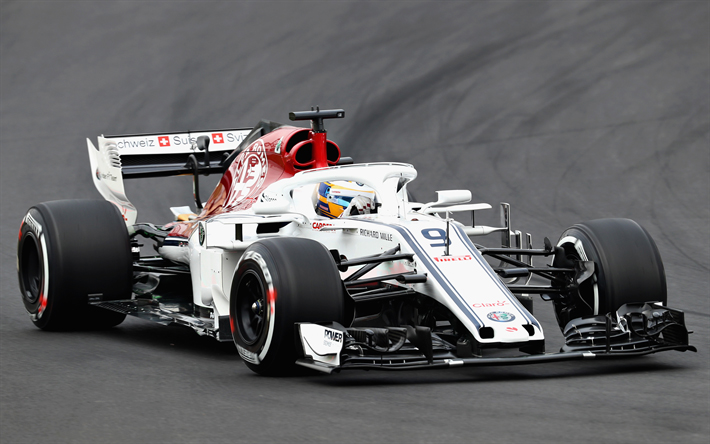F1 Car: (15, 103, 702, 381)
